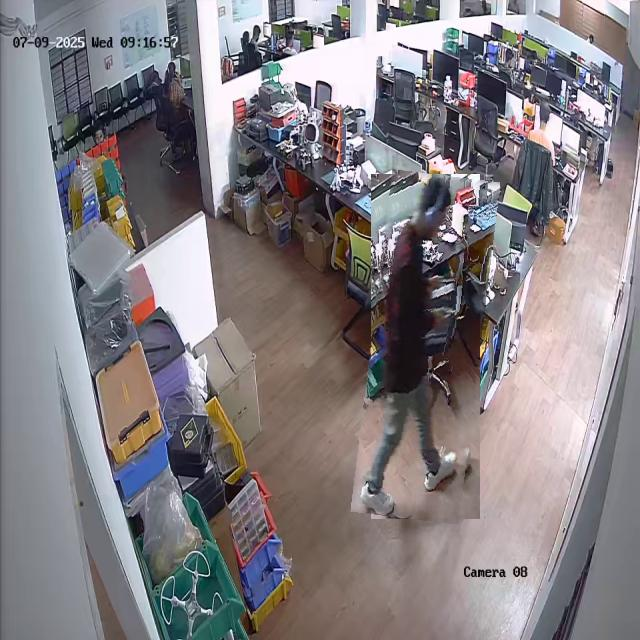person: (361, 172, 490, 521)
